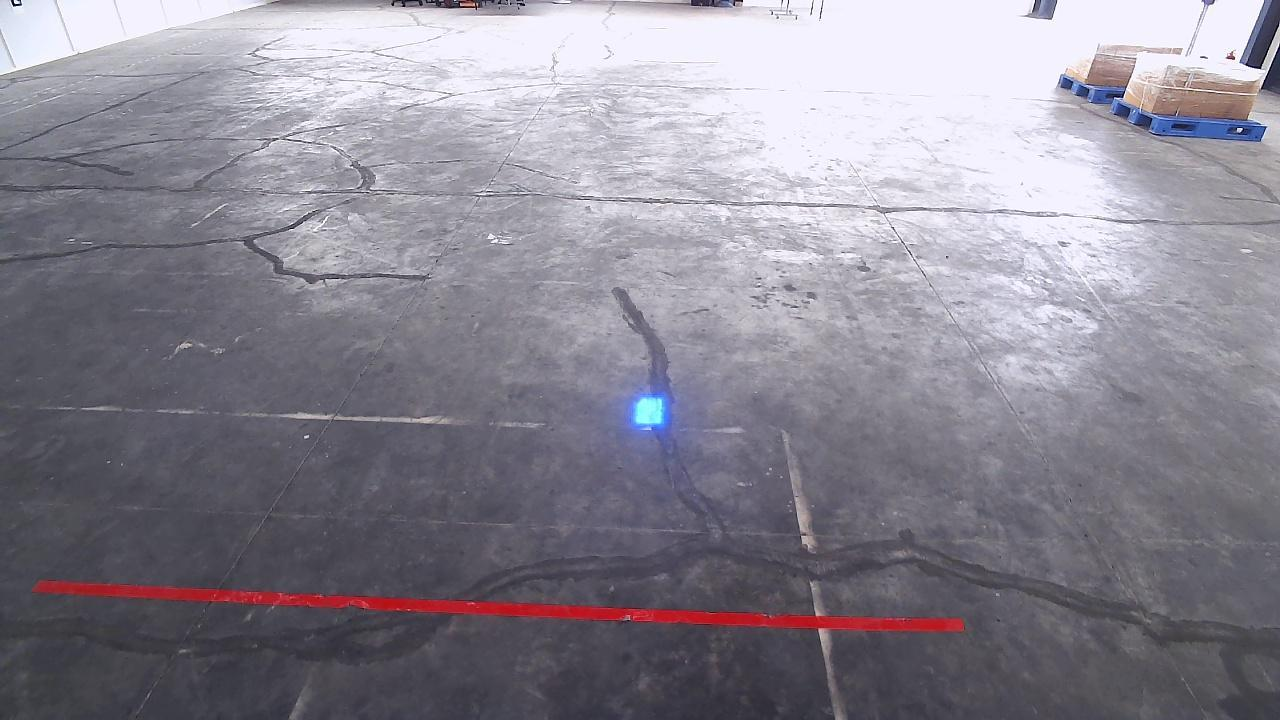red_line: (32, 578, 966, 631)
